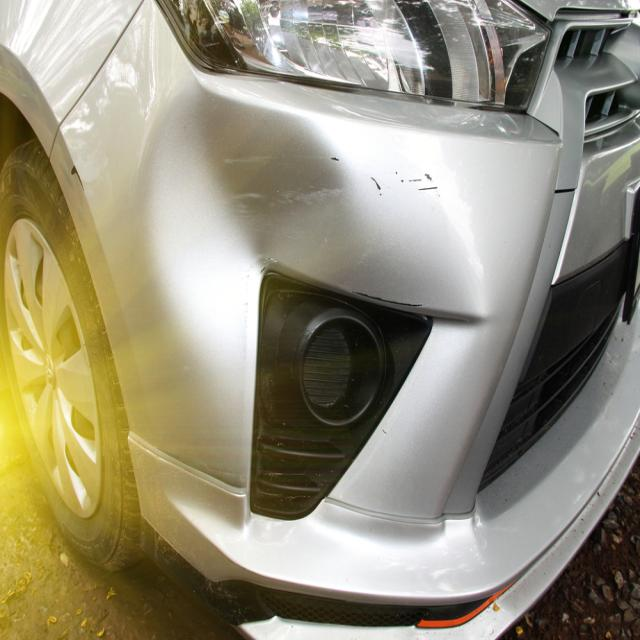Cabossage: (139, 95, 341, 390)
Rayure: (218, 137, 438, 236), (66, 160, 97, 196)
